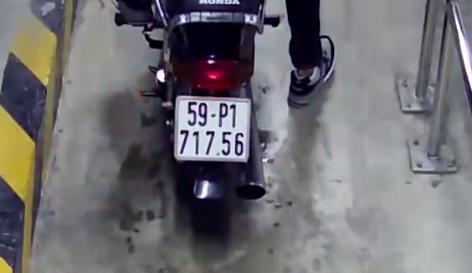lisence: (174, 96, 251, 162)
